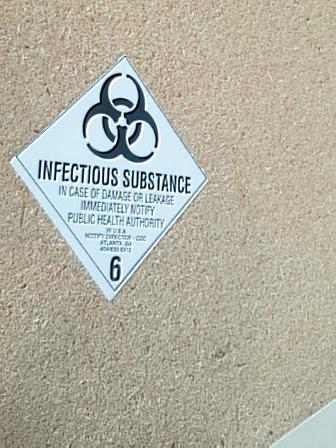infectious-substance: (10, 54, 207, 302)
